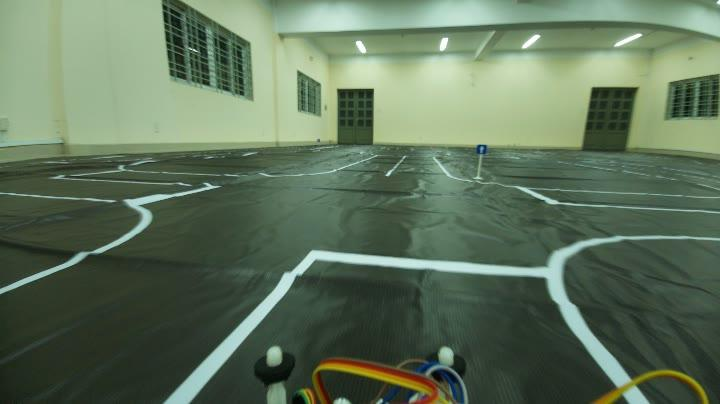onewayroad: (474, 142, 487, 158)
